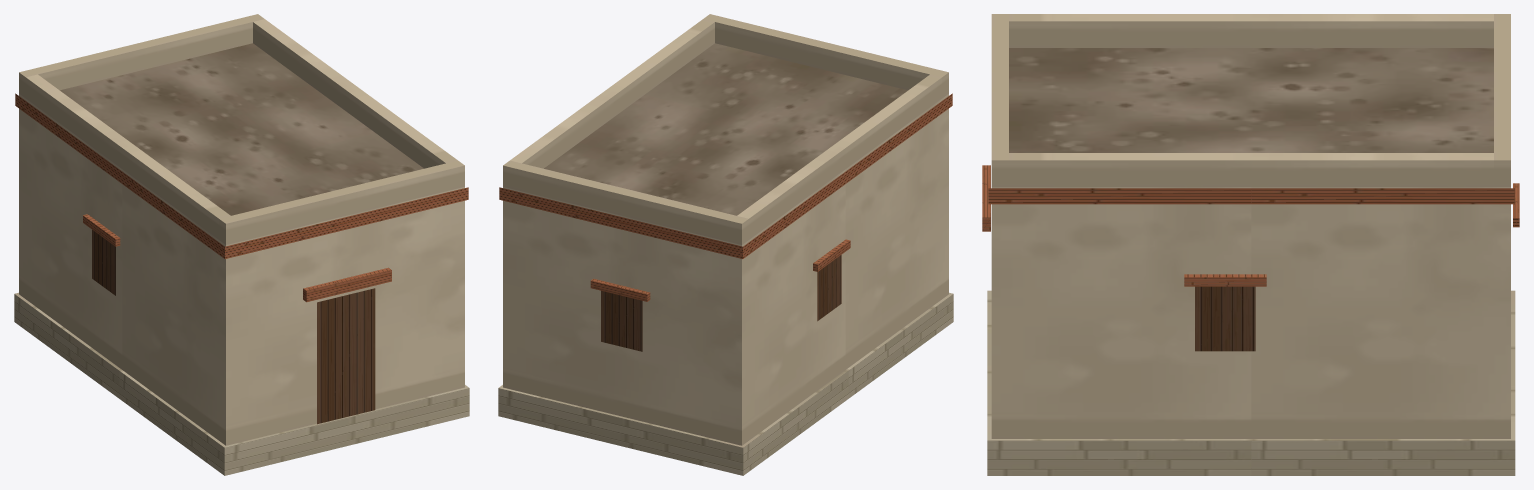
The model's file is ae_sand_stone_medium_block_lod1.glb.
3 renders of one model, left to right at view 1: azimuth 30°, elevation 25°; view 2: azimuth 150°, elevation 25°; view 3: azimuth 270°, elevation 25°, orthographic. The views are drawn at different scales.
Visible parts, largest first — view 1: ae_sand_stone_medium_block_lod1; view 2: ae_sand_stone_medium_block_lod1; view 3: ae_sand_stone_medium_block_lod1.
Boxes of the visible parts, x1,y1,x2,y2 form: ae_sand_stone_medium_block_lod1: (14, 14, 469, 475); ae_sand_stone_medium_block_lod1: (498, 14, 953, 475); ae_sand_stone_medium_block_lod1: (982, 14, 1519, 475).
Size of the model in its own units: 4.2 by 4 by 6.21.
1 material, 1 textured.
